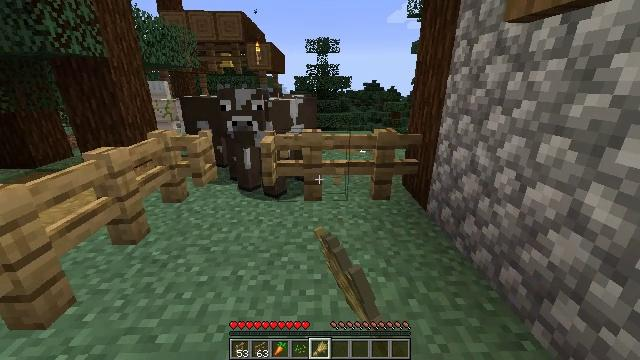cow: (220, 89, 318, 185), (184, 89, 269, 183)
